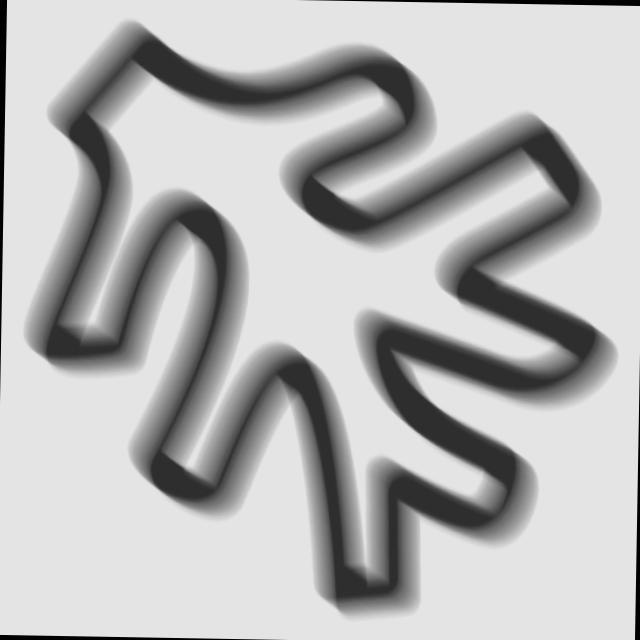coral: (3, 3, 628, 638)
